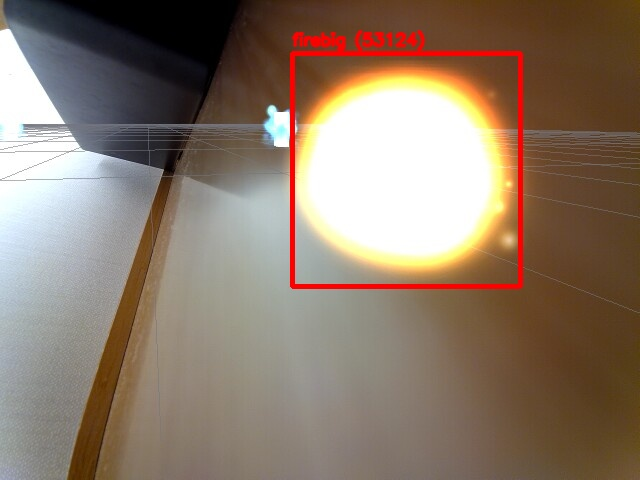firebig: (292, 53, 520, 286)
